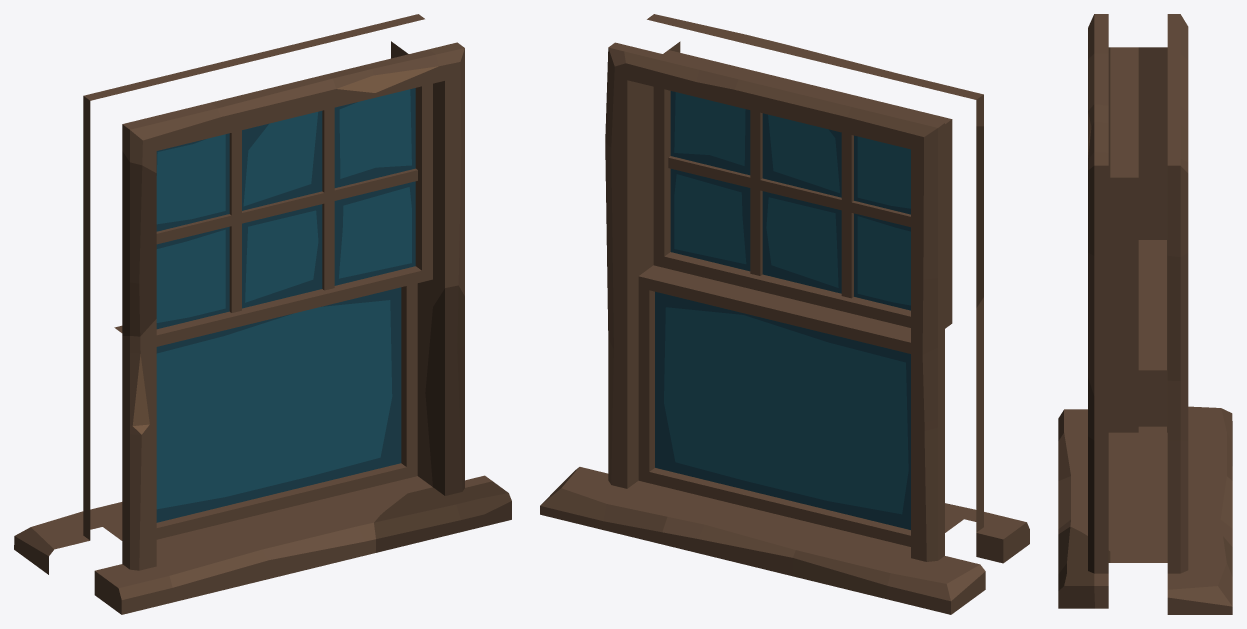
Rendered from SM_Window_B.gltf.
3 renders of one model, left to right at view 1: azimuth 30°, elevation 25°; view 2: azimuth 150°, elevation 25°; view 3: azimuth 270°, elevation 25°, orthographic. The views are drawn at different scales.
Visible parts, largest first — view 1: SM_Window_B, SM_WindowB; view 2: SM_Window_B, SM_WindowB; view 3: SM_Window_B, SM_WindowB.
Part boxes in pixels (box(x1,y1,x2,y2)): SM_Window_B: box(14, 14, 511, 614); SM_WindowB: box(114, 283, 417, 539); SM_Window_B: box(540, 14, 1029, 614); SM_WindowB: box(638, 265, 910, 546); SM_Window_B: box(1058, 14, 1232, 614); SM_WindowB: box(1138, 240, 1166, 547).
Size of the model in its own units: 1.52 by 1.62 by 0.59.
Materials: 2 (2 with a texture image).
